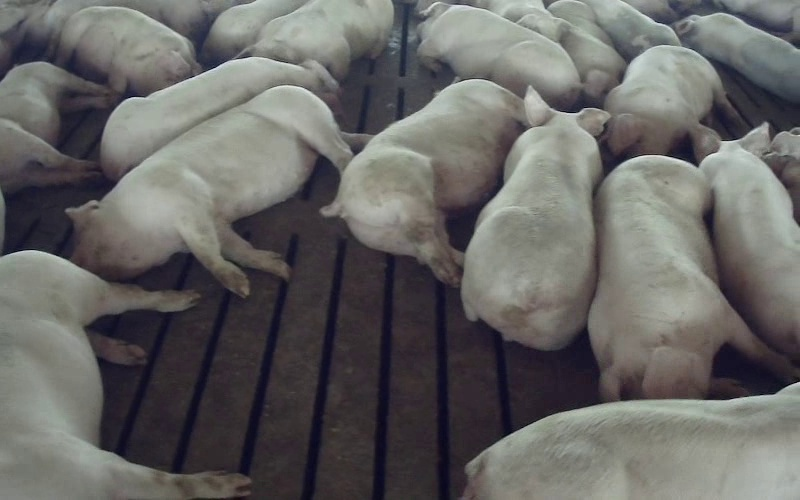pig: (68, 88, 371, 296), (588, 156, 799, 399), (321, 79, 526, 285), (464, 383, 799, 499), (461, 86, 608, 349), (100, 57, 337, 180), (695, 123, 799, 360), (417, 2, 581, 109), (0, 62, 112, 191), (604, 45, 735, 155), (56, 6, 200, 95), (675, 13, 799, 102), (548, 0, 626, 105), (583, 0, 680, 60)
